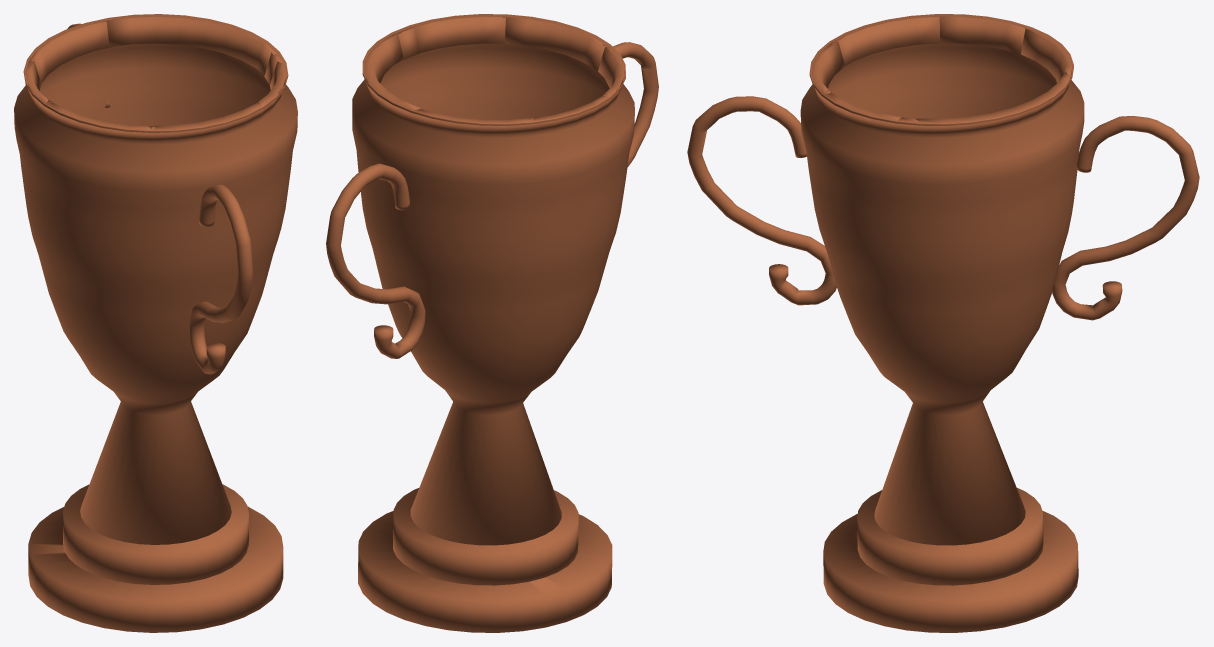
File: awards.gltf
The picture shows the model from 3 angles, left to right: view 1: azimuth 30°, elevation 25°; view 2: azimuth 150°, elevation 25°; view 3: azimuth 270°, elevation 25°; orthographic projection.
Visible parts, largest first — view 1: two; view 2: two; view 3: two.
Boxes of the visible parts, x1,y1,x2,y2 form: two: [14, 14, 297, 632]; two: [326, 14, 658, 632]; two: [687, 14, 1199, 632].
Size of the model in its own units: 0.173 by 0.3462 by 0.3123.
